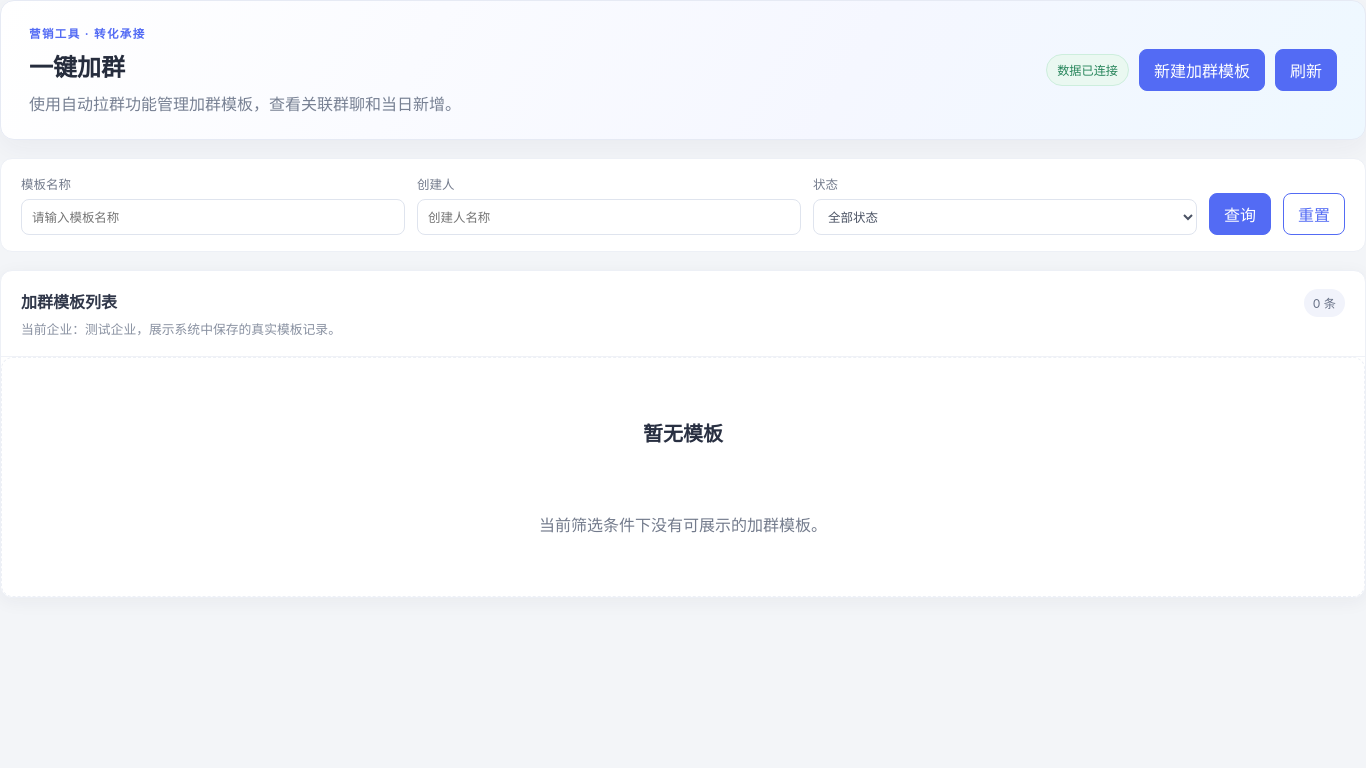
Test: Phase 3.4 conversion pages › creates a one-click group template through the existing auto-pull provider
Later steps or results of the test are not shown.
Expected: the heading "暂无模板" is shown, top-left (643, 418), bottom-right (723, 447)
Click the button "新建加群模板". click: (1202, 70)
box: top-left (1139, 49), bottom-right (1265, 91)
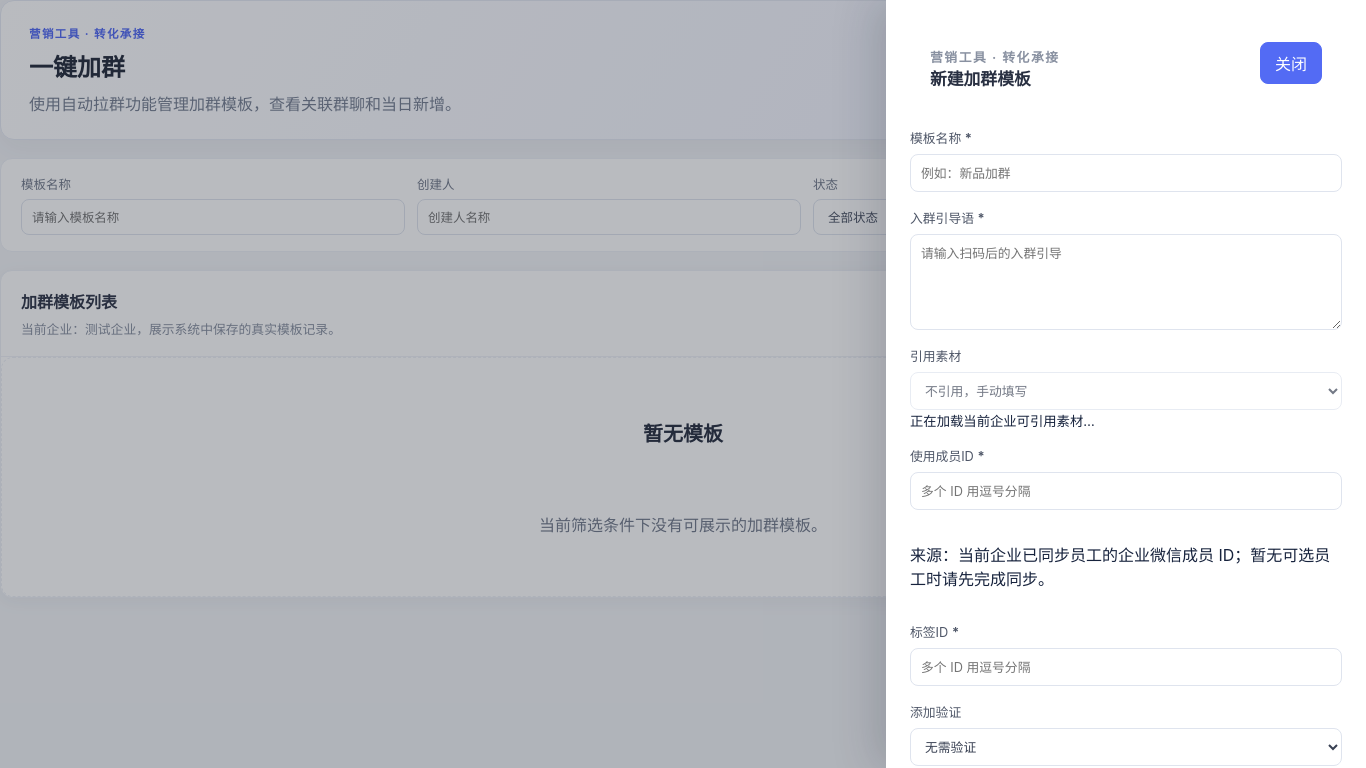
Expected: the element named "一键加群模板" is shown
